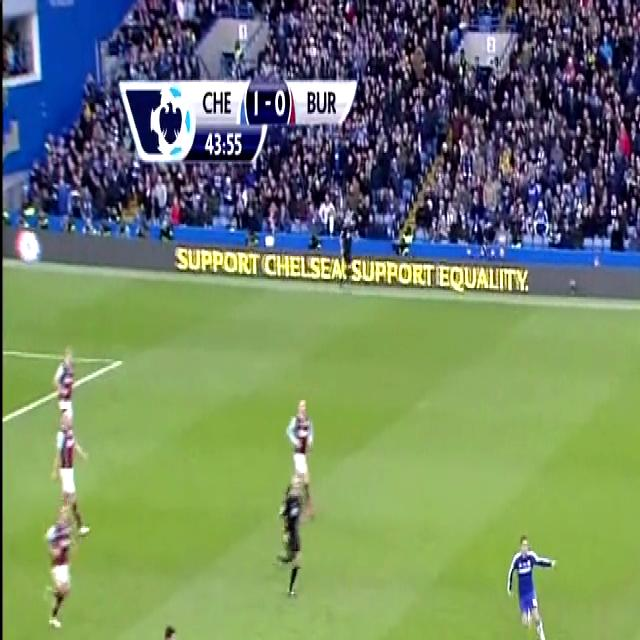referee: (268, 464, 312, 602)
soccer-player: (497, 514, 556, 640), (39, 500, 78, 633), (49, 416, 91, 532), (285, 389, 321, 506), (50, 332, 81, 443), (142, 610, 194, 640), (592, 636, 634, 640)
